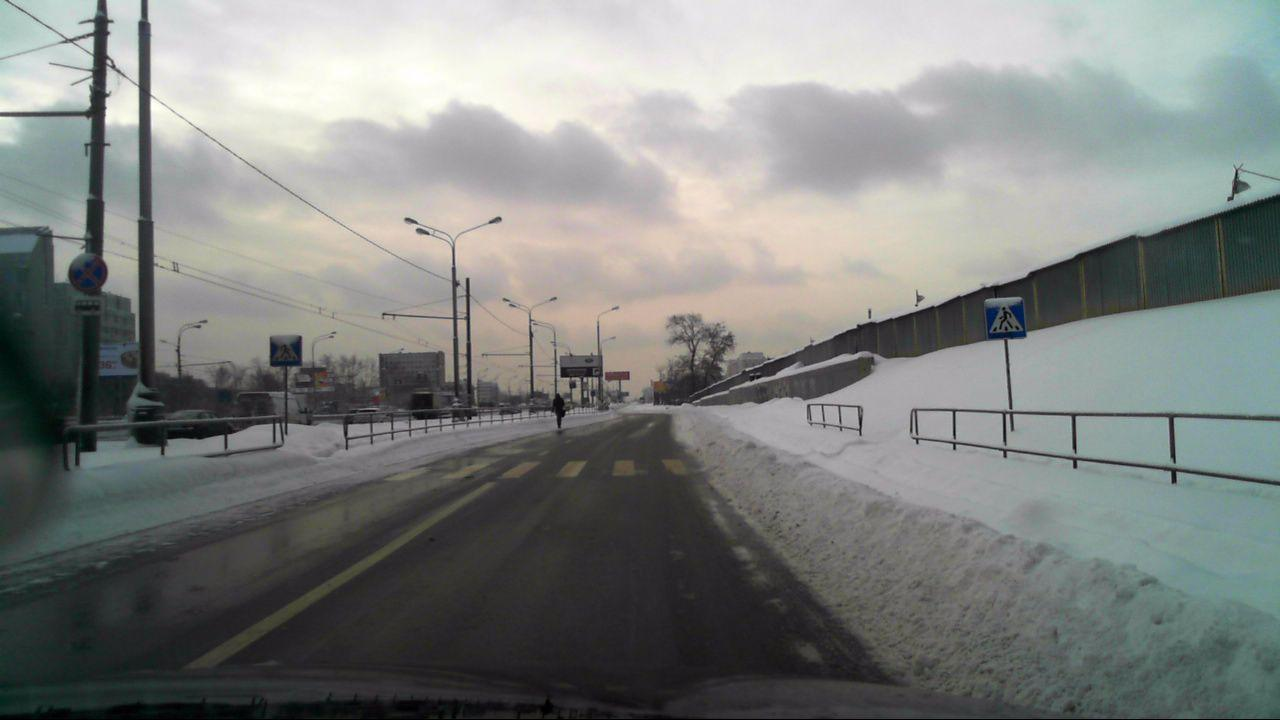3_27: (69, 253, 107, 293)
5_19_1: (982, 295, 1027, 338)
5_19_2: (270, 334, 304, 364)
8_4_4: (72, 300, 107, 318)
